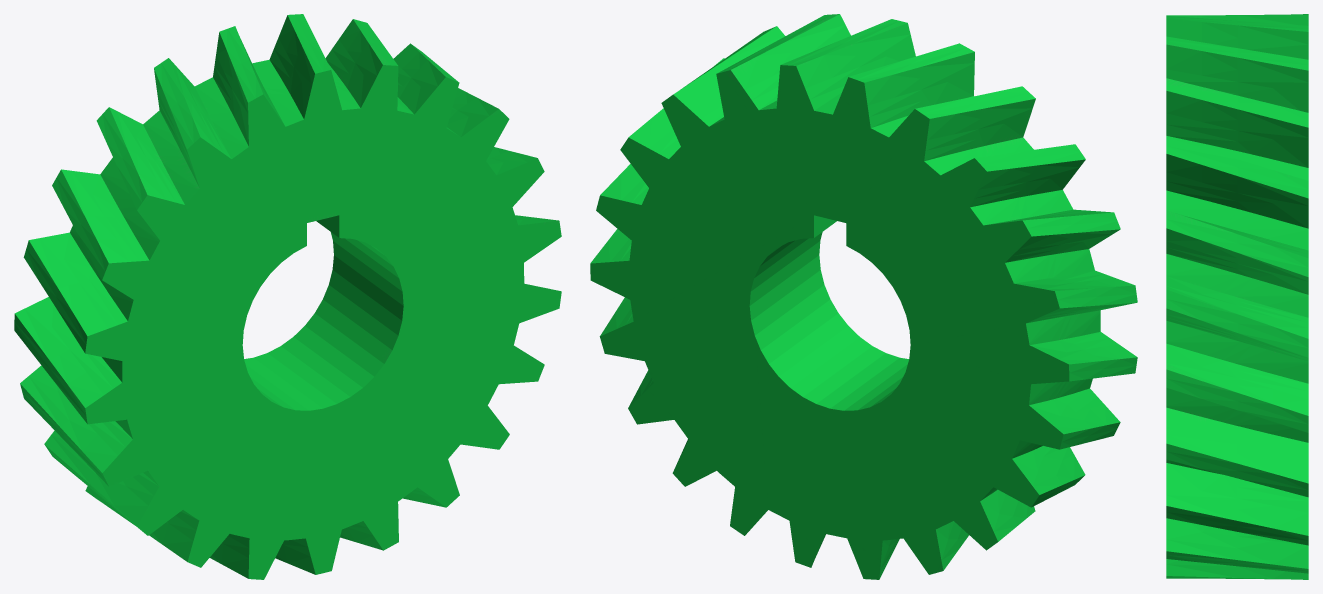
File: pinhaofront.glb
The picture shows the model from 3 angles, left to right: view 1: azimuth 30°, elevation 25°; view 2: azimuth 150°, elevation 25°; view 3: azimuth 270°, elevation 25°; orthographic projection. The views are drawn at different scales.
Parts seen in each view (by area): view 1: node_id3; view 2: node_id3; view 3: node_id3.
Part boxes in pixels (x1,y1,x2,y2): node_id3: [14, 14, 561, 579]; node_id3: [590, 14, 1137, 579]; node_id3: [1166, 14, 1308, 579].
Bounding box in the file's own units: 0.512 × 0.5118 × 0.1289.
1 material, 1 textured.
